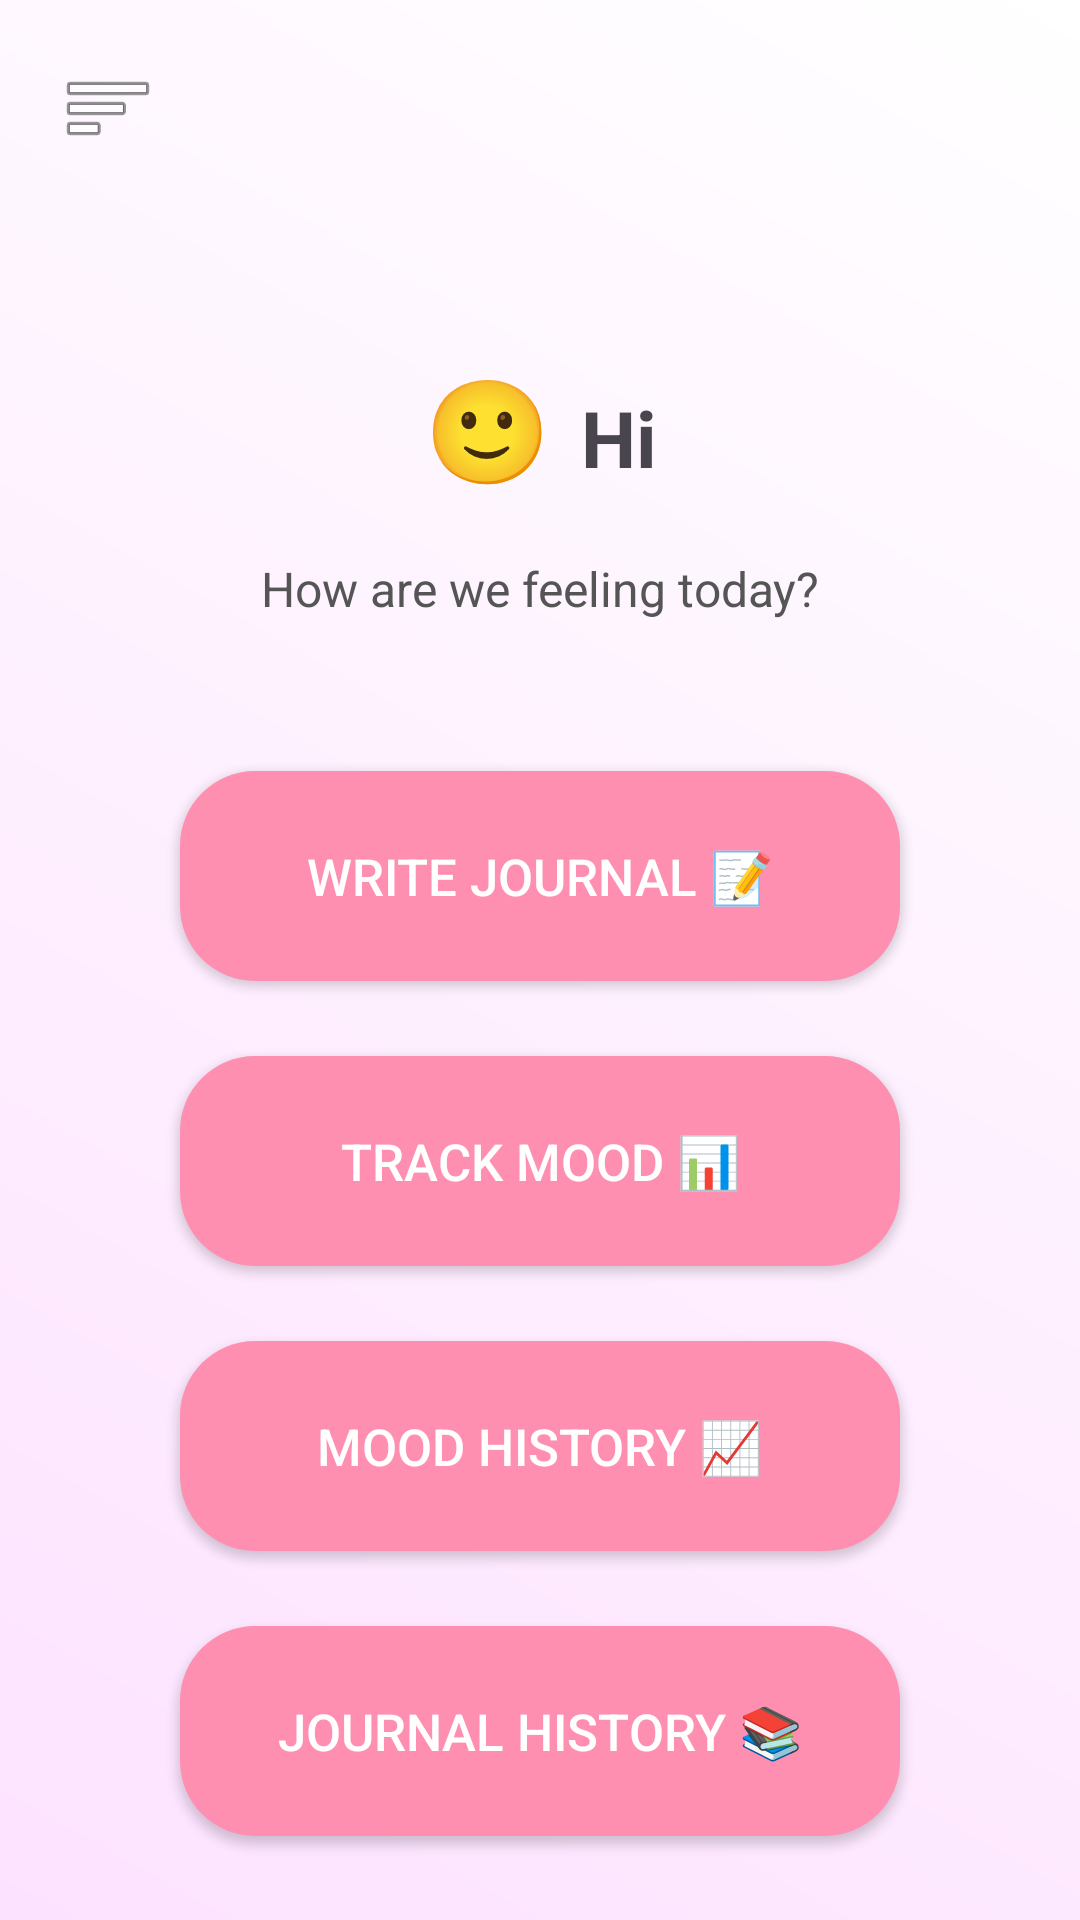

Where to tap for icons on this 1080×1920 app screen, as point (x, y):
sort by size: point (108, 108)
